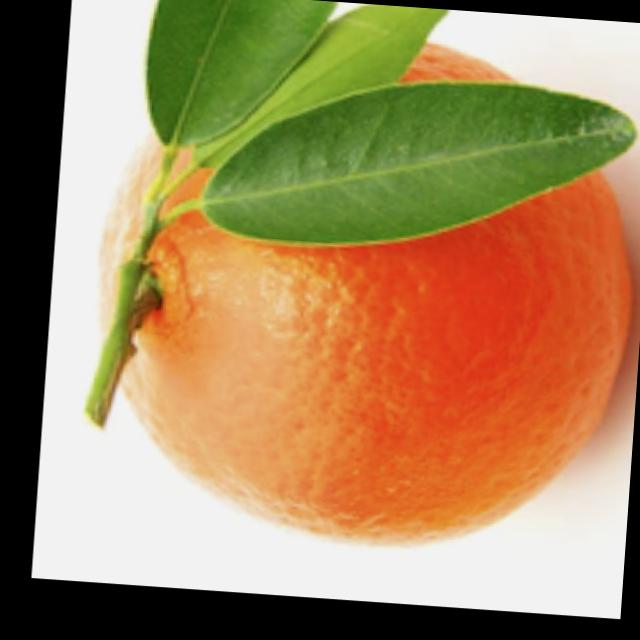orange: (82, 16, 640, 565)
